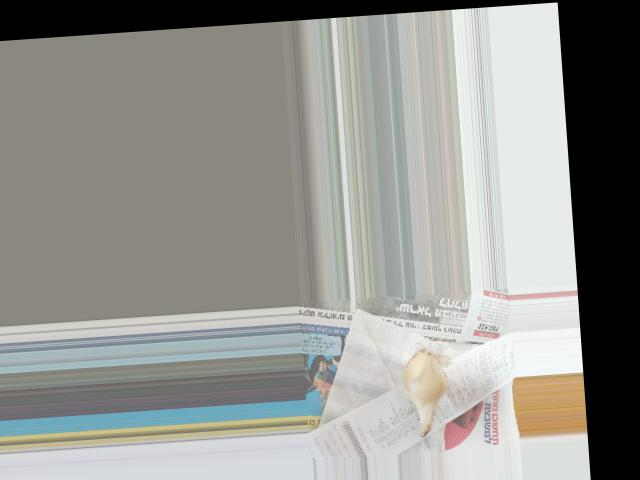onion: (399, 355, 449, 411)
